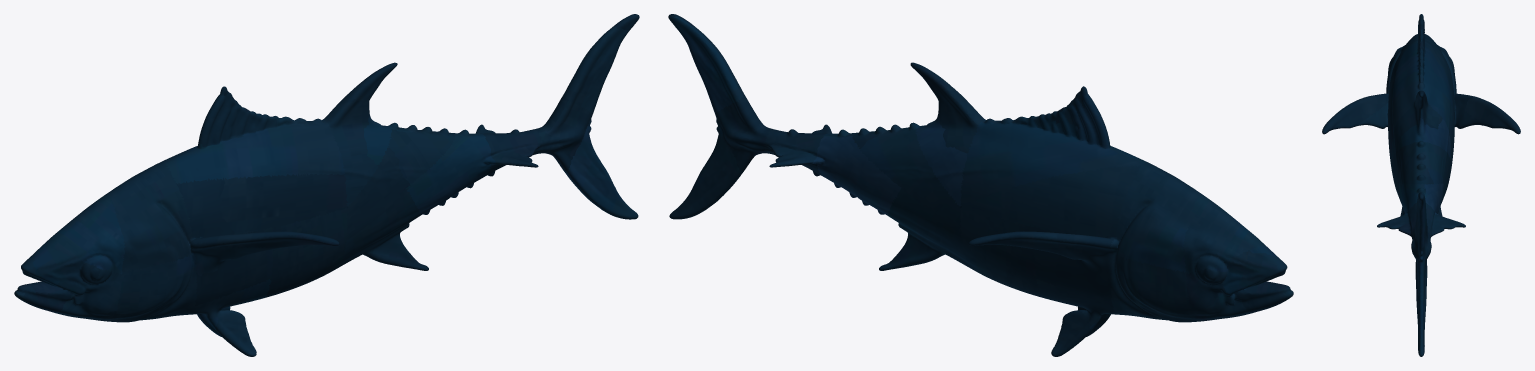
The model's file is tuna.obj.
The picture shows the model from 3 angles, left to right: view 1: azimuth 30°, elevation 25°; view 2: azimuth 150°, elevation 25°; view 3: azimuth 270°, elevation 25°; orthographic projection. The views are drawn at different scales.
Parts seen in each view (by area): view 1: tripo_node_768a2bac-dee9-45a9-be8e-d1adafbef189; view 2: tripo_node_768a2bac-dee9-45a9-be8e-d1adafbef189; view 3: tripo_node_768a2bac-dee9-45a9-be8e-d1adafbef189.
Part boxes in pixels (bbox=[...]): tripo_node_768a2bac-dee9-45a9-be8e-d1adafbef189: bbox=[14, 14, 639, 356]; tripo_node_768a2bac-dee9-45a9-be8e-d1adafbef189: bbox=[668, 14, 1293, 356]; tripo_node_768a2bac-dee9-45a9-be8e-d1adafbef189: bbox=[1322, 14, 1520, 356].
Bounding box in the file's own units: 1 × 0.4037 × 0.3488.
Materials: 1 (1 with a texture image).
